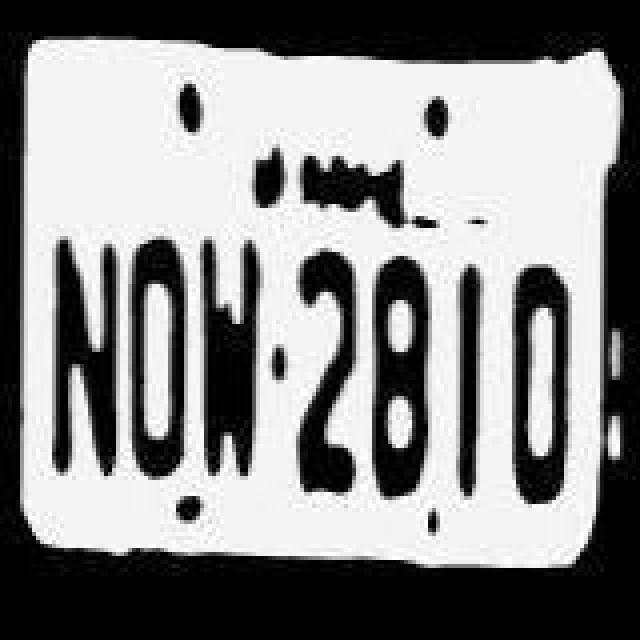1: (448, 250, 492, 518)
2: (290, 242, 362, 510)
8: (366, 252, 438, 500)
N: (40, 228, 124, 492)
O: (122, 232, 194, 488), (506, 264, 578, 512)
W: (196, 234, 264, 486)
